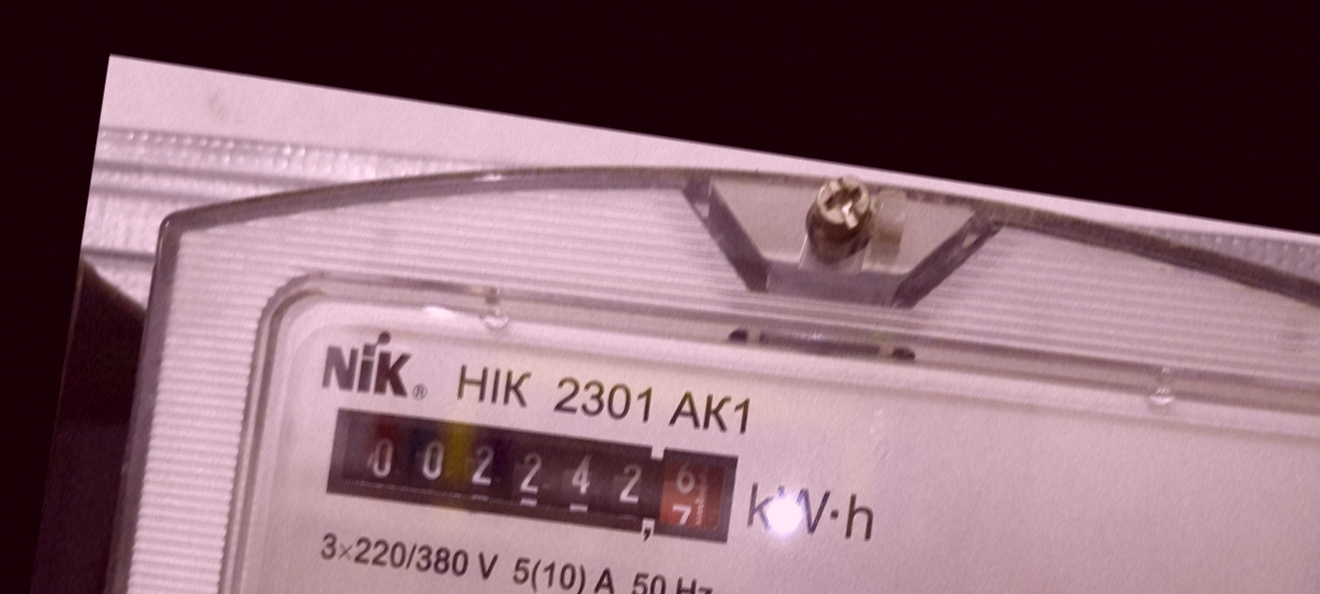0: (415, 435, 446, 480), (466, 441, 496, 486), (366, 433, 394, 480)
2: (514, 448, 544, 495), (613, 458, 643, 505)
4: (564, 450, 593, 496)
6: (669, 459, 698, 495)
7: (665, 500, 691, 526)
screen: (310, 384, 755, 568)
